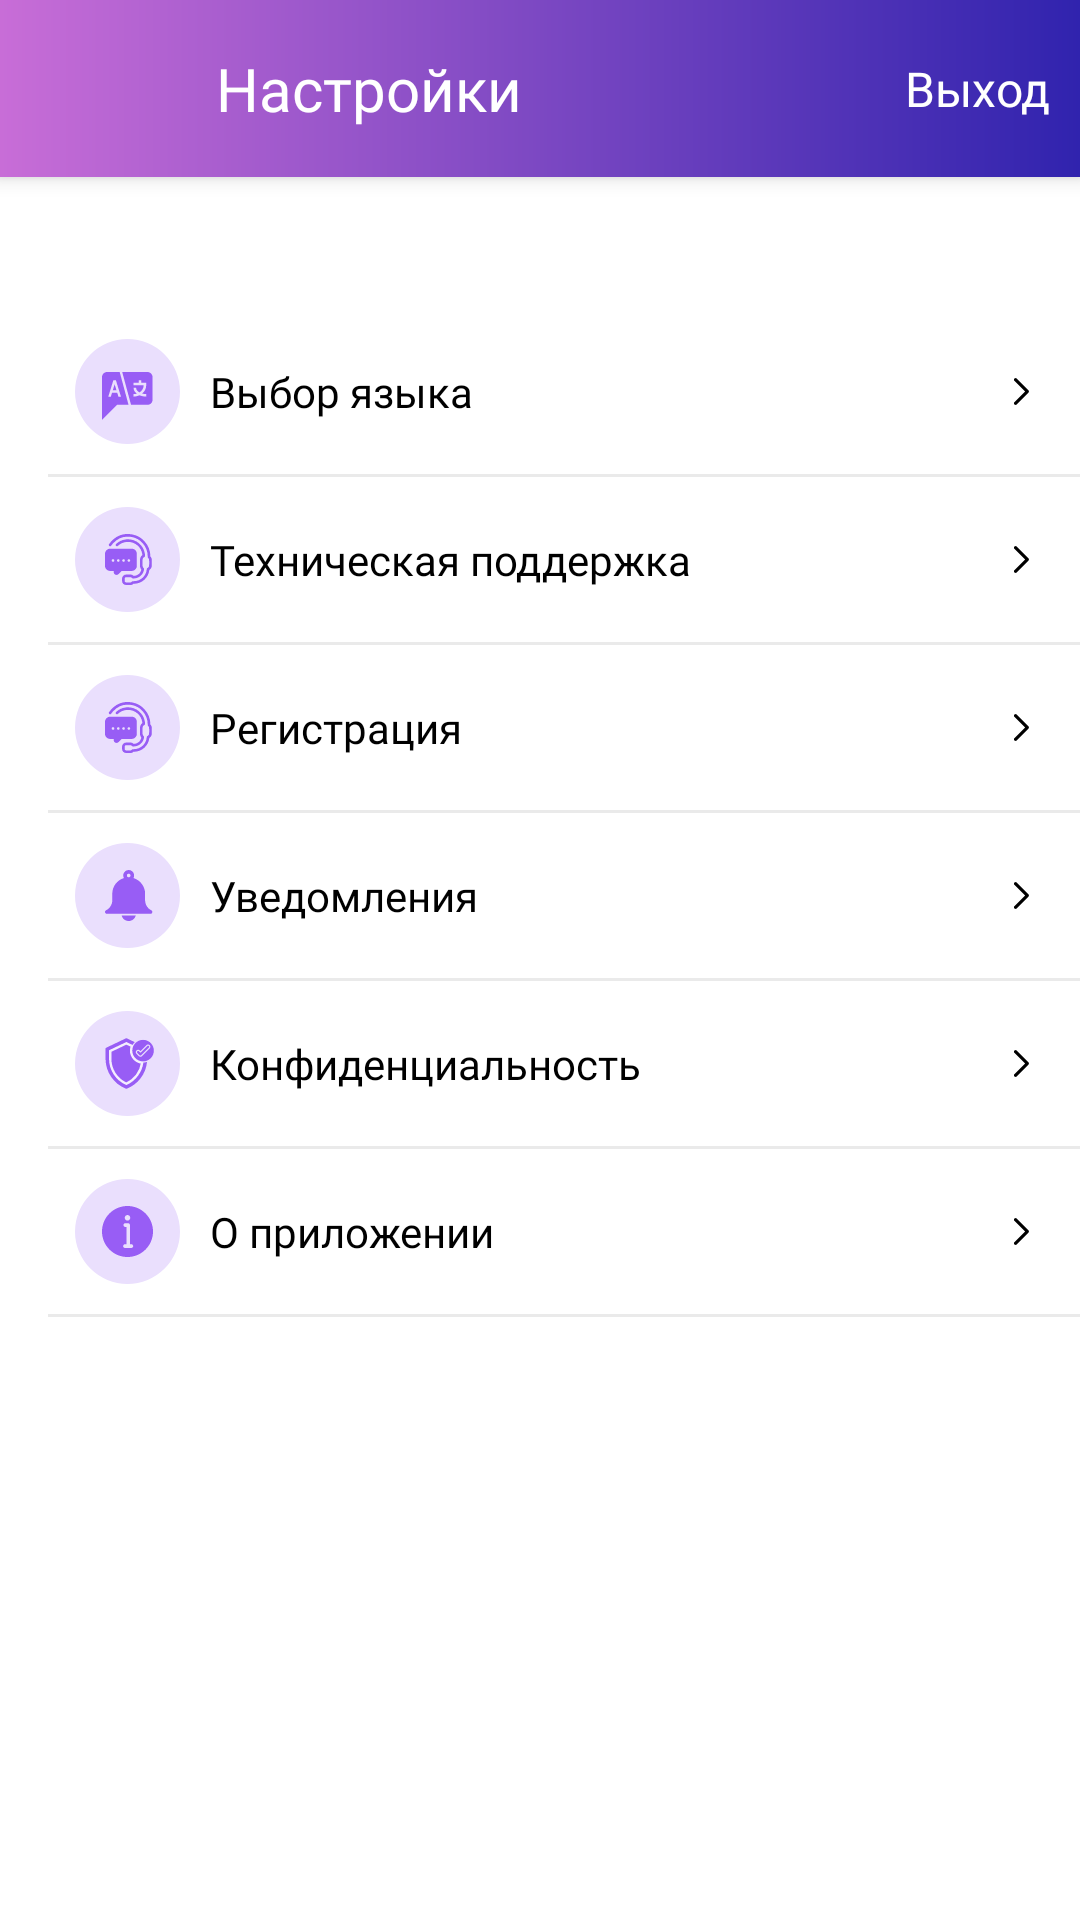

Icons on this 1080 x 1920 Android screen, each with its box as (x1, y1, x2, y2):
about app: (75, 1179, 180, 1284)
confidentiality: (75, 1011, 180, 1116)
notification: (75, 843, 180, 948)
select language: (75, 339, 180, 444)
support: (75, 507, 180, 612), (75, 675, 180, 780)
